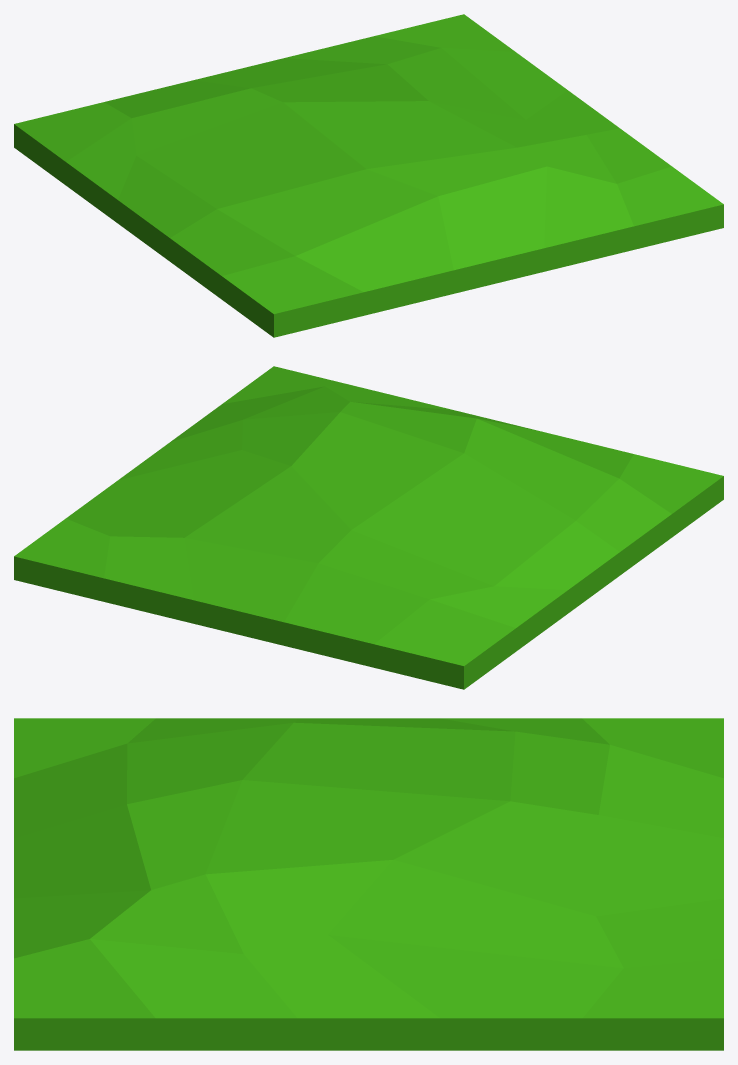
File: plainsHills_export.fbx
3 renders of one model, top to bottom at view 1: azimuth 30°, elevation 25°; view 2: azimuth 150°, elevation 25°; view 3: azimuth 270°, elevation 25°, orthographic. The views are drawn at different scales.
Parts seen in each view (by area): view 1: Cube.004; view 2: Cube.004; view 3: Cube.004.
Part boxes in pixels (left/top/right/bottom): Cube.004: left=14, top=14, right=723, bottom=337; Cube.004: left=14, top=366, right=723, bottom=689; Cube.004: left=14, top=718, right=723, bottom=1050.
Bounding box in the file's own units: 2000 × 274 × 2000.
